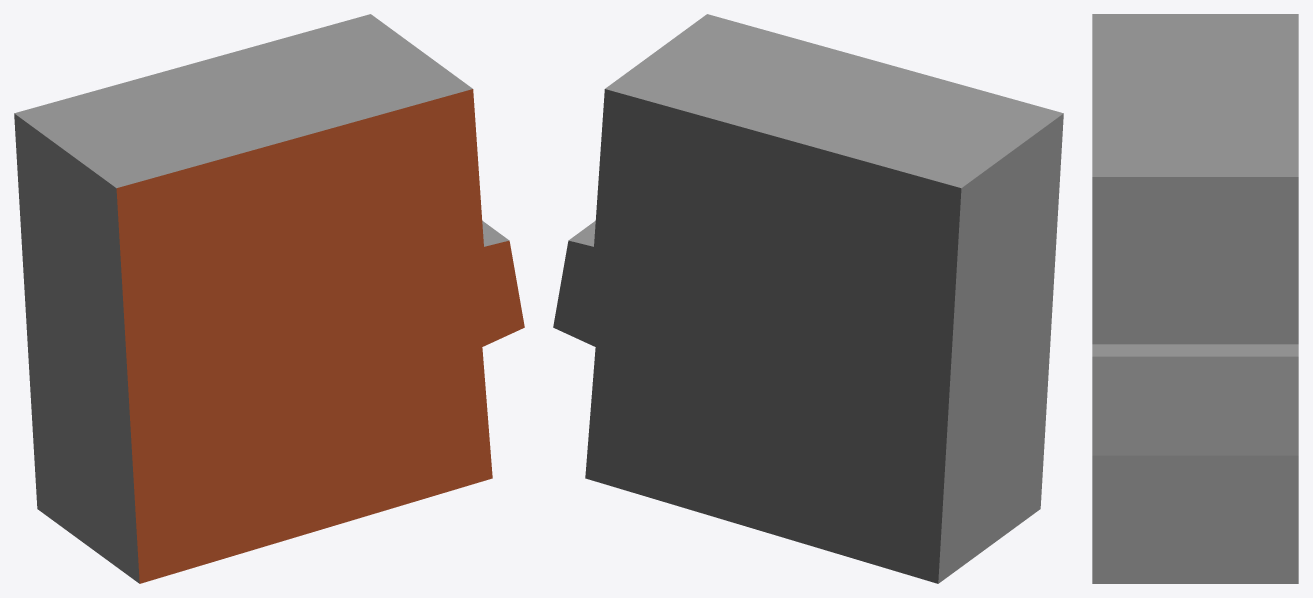
The model's file is construction_2739_assumed_A_Casa_h6m.obj.
3 renders of one model, left to right at view 1: azimuth 30°, elevation 25°; view 2: azimuth 150°, elevation 25°; view 3: azimuth 270°, elevation 25°, orthographic.
Parts seen in each view (by area): view 1: construction_2739_assumed_A_Casa; view 2: construction_2739_assumed_A_Casa; view 3: construction_2739_assumed_A_Casa.
Part boxes in pixels (box(x1,y1,x2,y2)): construction_2739_assumed_A_Casa: box(14, 14, 524, 583); construction_2739_assumed_A_Casa: box(553, 14, 1063, 583); construction_2739_assumed_A_Casa: box(1092, 14, 1298, 583).
Bounding box in the file's own units: 13.81 × 13.37 × 6.
